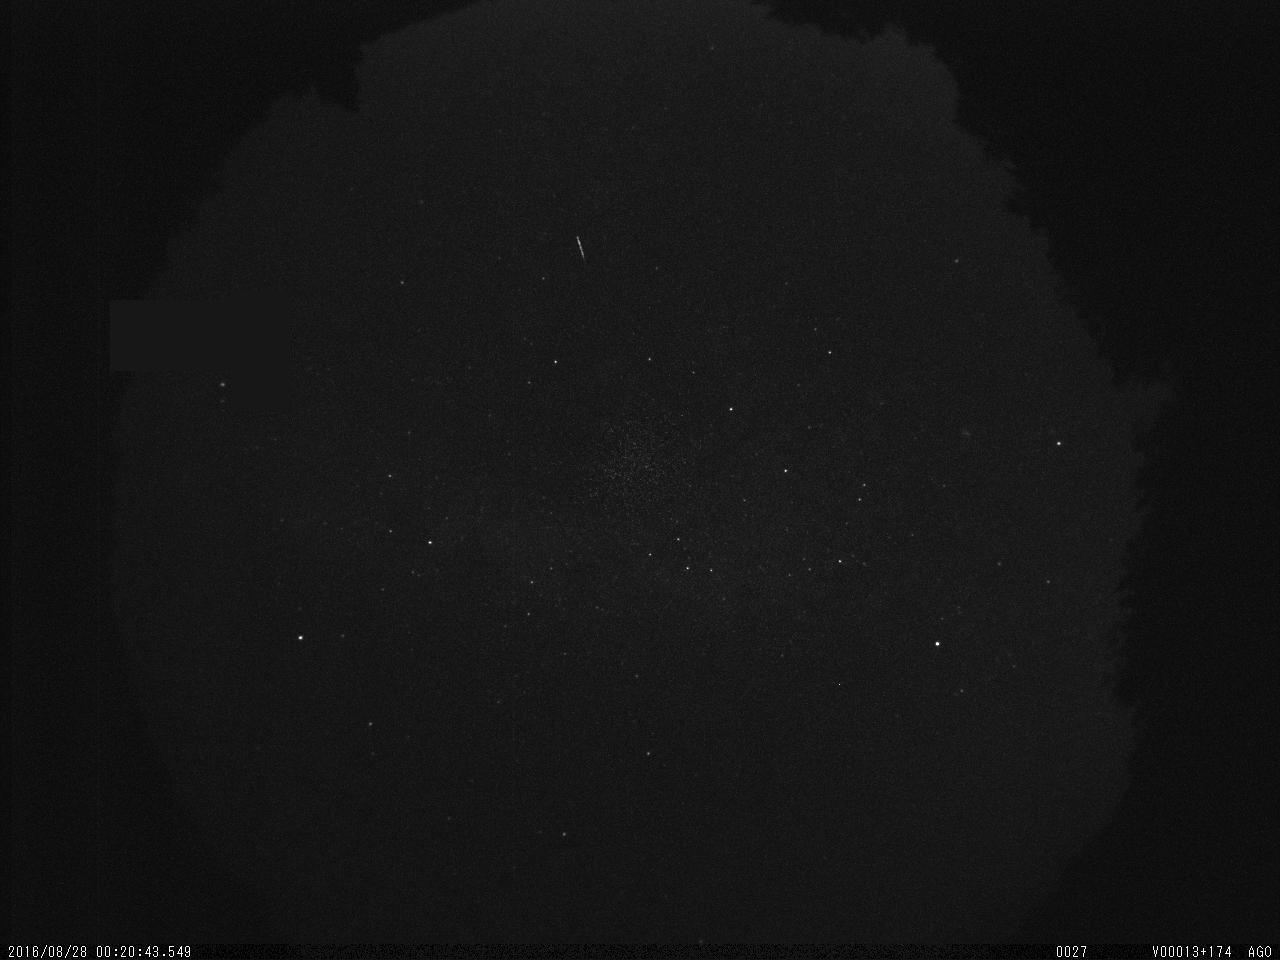meteor: (556, 213, 610, 294)
